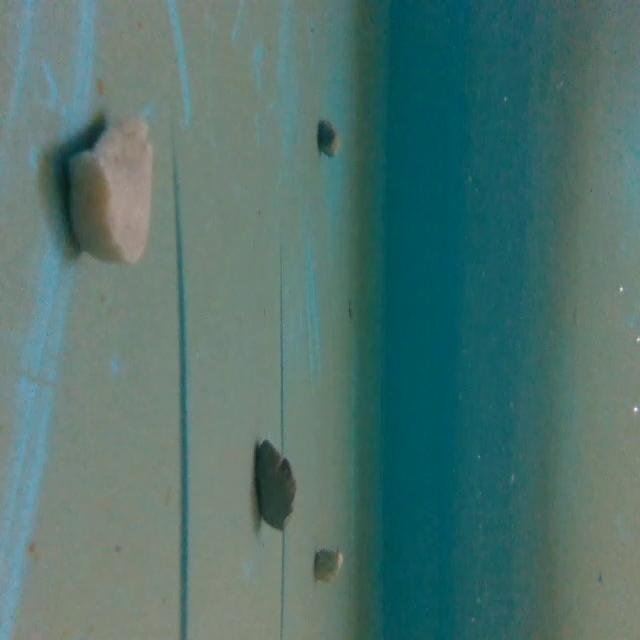rock: (63, 109, 162, 271), (248, 442, 298, 533), (313, 112, 343, 164), (313, 542, 346, 586)
